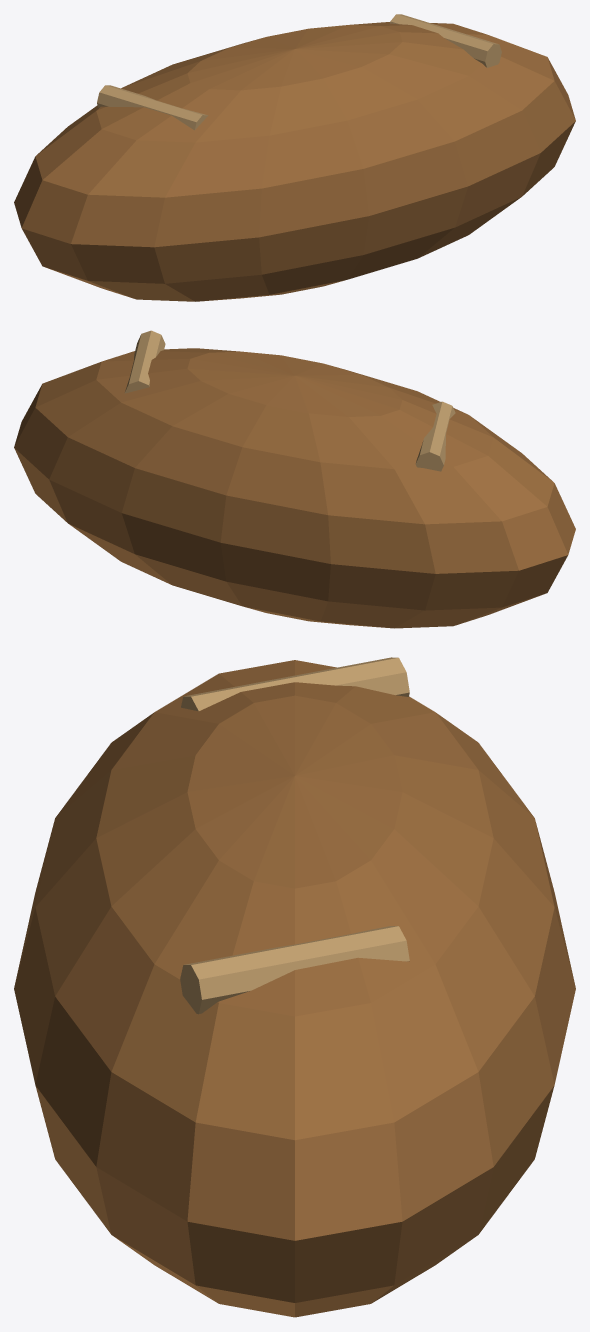
File: loot_bread.glb
3 views of the same model, one above another, from view 1: azimuth 30°, elevation 25°; view 2: azimuth 150°, elevation 25°; view 3: azimuth 270°, elevation 25° (orthographic). The views are drawn at different scales.
Parts seen in each view (by area): view 1: loot_bread; view 2: loot_bread; view 3: loot_bread.
Boxes of the visible parts, <box> form: loot_bread: <box>14,14,575,301</box>; loot_bread: <box>14,330,575,628</box>; loot_bread: <box>14,657,575,1317</box>.
Size of the model in its own units: 0.31 by 0.122 by 0.146.
